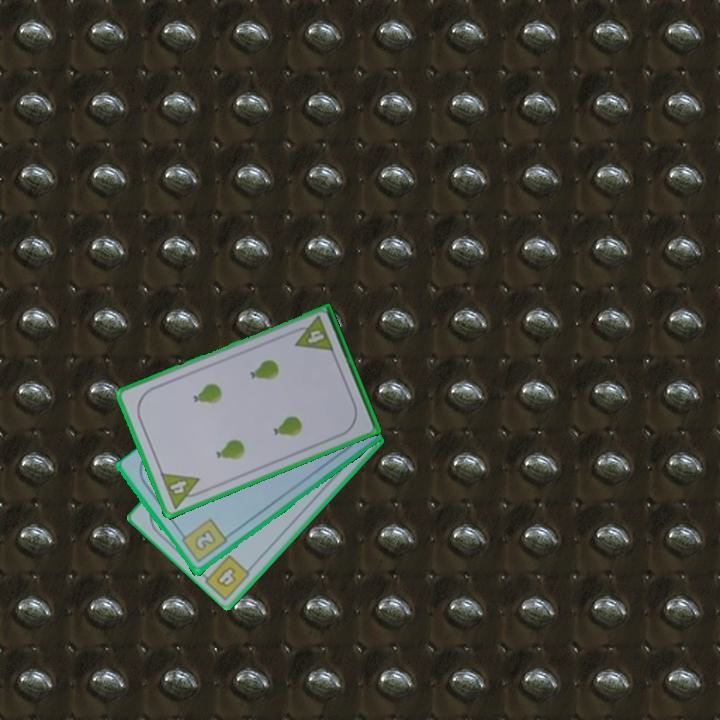2b: (176, 515, 230, 566)
4b: (212, 563, 239, 591)
4p: (157, 469, 207, 512), (288, 313, 337, 355)
